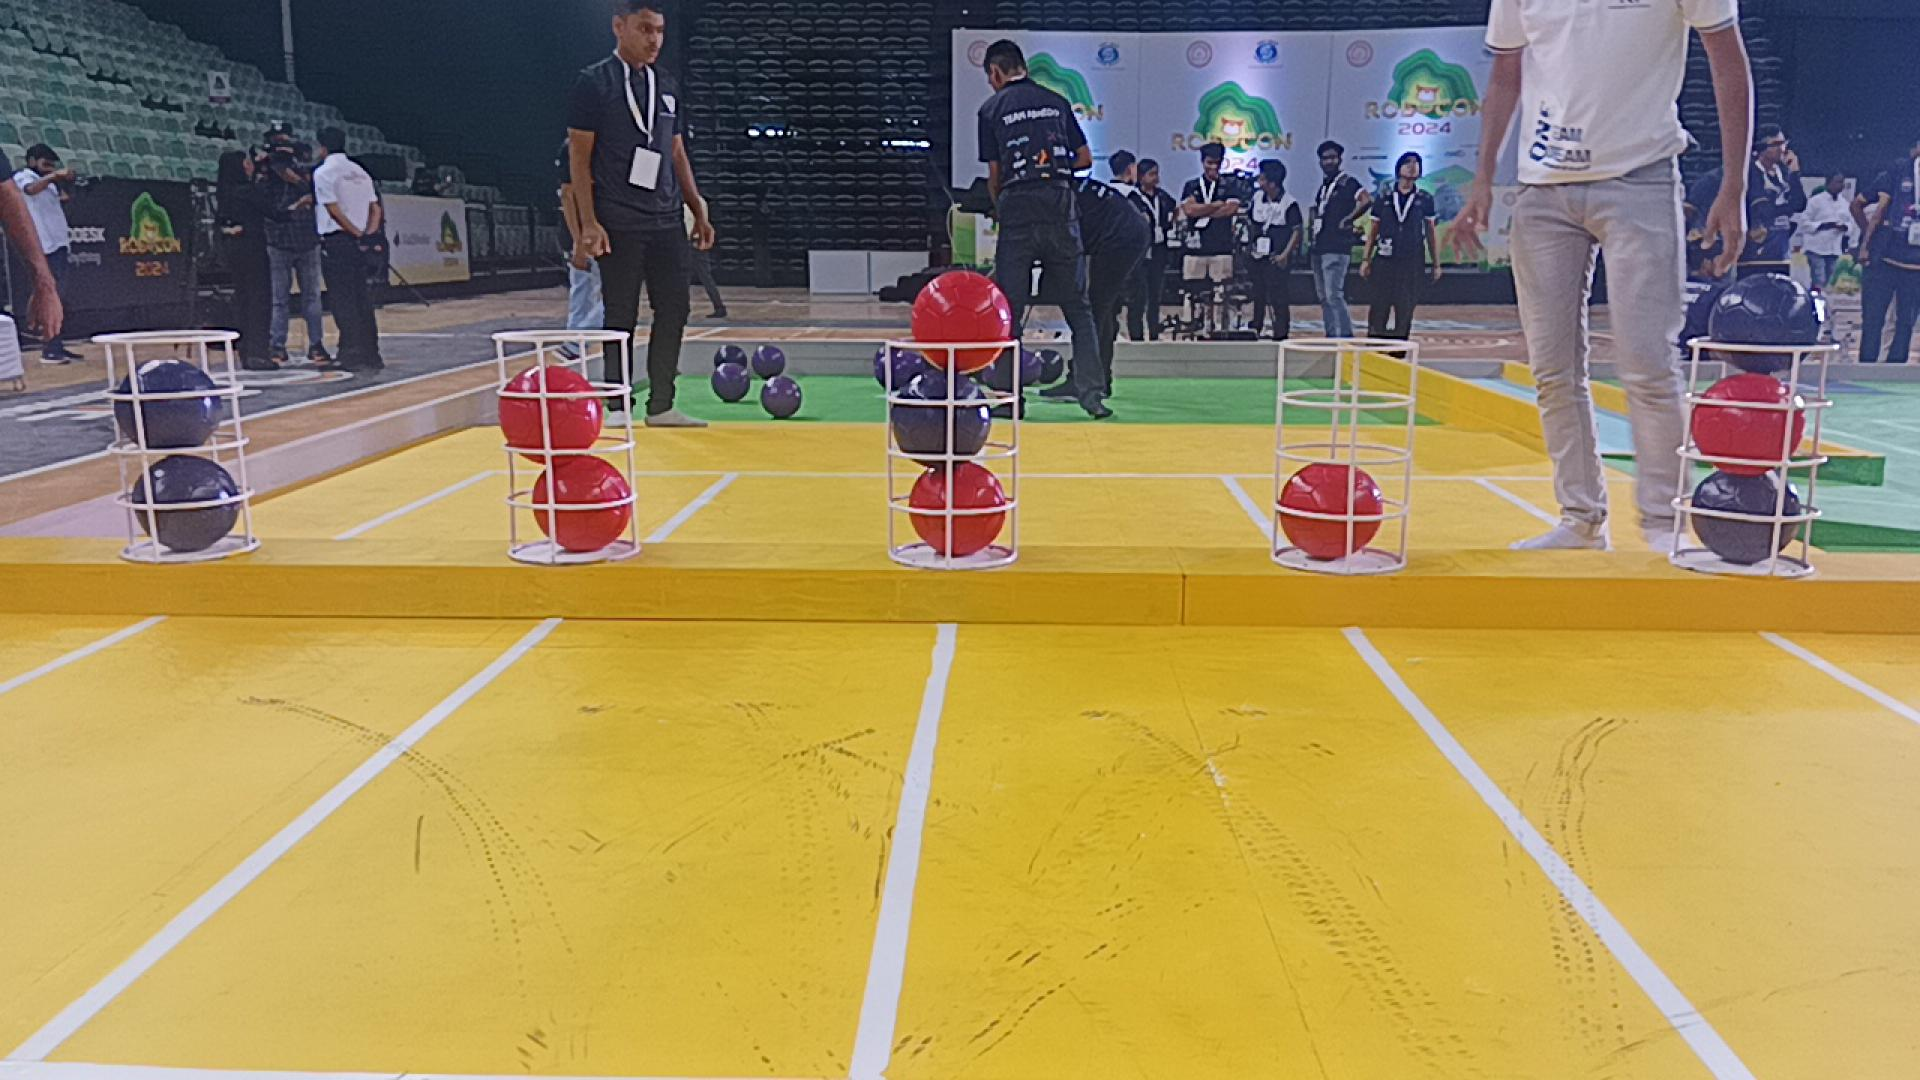dhoka: (1710, 274, 1822, 375), (1695, 472, 1804, 566), (112, 360, 225, 450), (131, 460, 240, 551), (889, 368, 990, 463)
laale: (1693, 372, 1801, 477), (1276, 462, 1382, 560), (911, 270, 1013, 372), (497, 369, 607, 460), (534, 456, 634, 554), (909, 463, 1006, 556)
